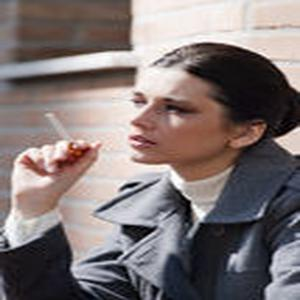cigarette: (46, 113, 77, 149)
